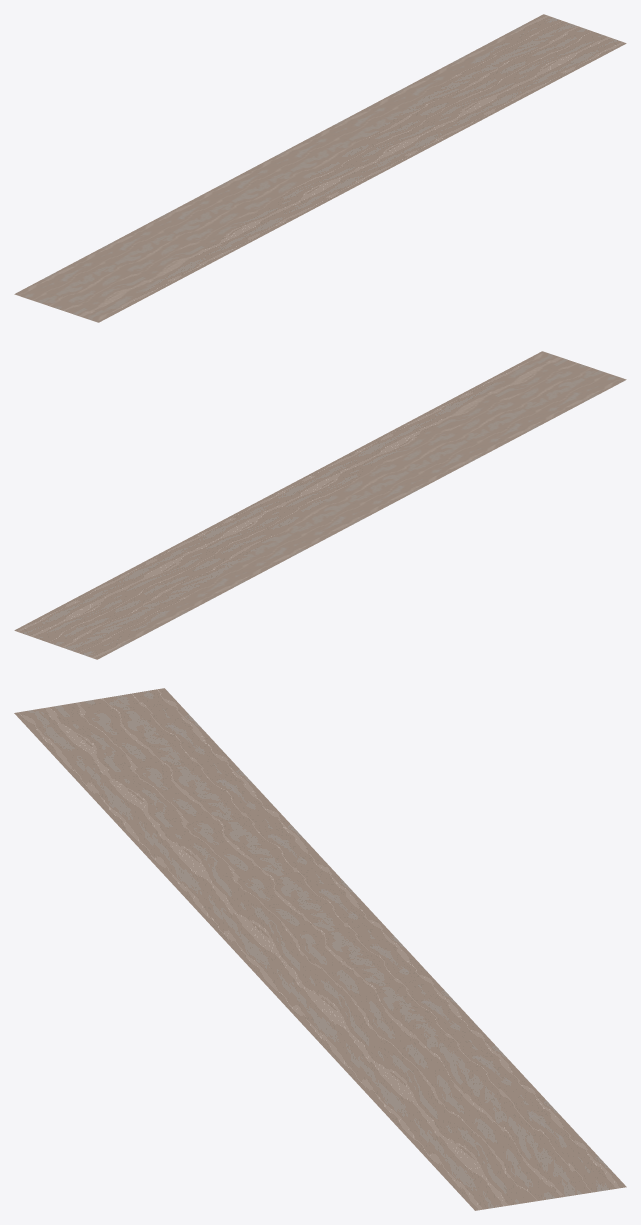
File: kd_stage_135ebf_0_63.glb
3 renders of one model, top to bottom at view 1: azimuth 30°, elevation 25°; view 2: azimuth 210°, elevation 25°; view 3: azimuth 270°, elevation 25°, orthographic. The views are drawn at different scales.
Visible parts, largest first — view 1: kd_stage_135ebf_0_63; view 2: kd_stage_135ebf_0_63; view 3: kd_stage_135ebf_0_63.
Part boxes in pixels (left/top/right/bottom): kd_stage_135ebf_0_63: left=14, top=14, right=626, bottom=322; kd_stage_135ebf_0_63: left=14, top=351, right=626, bottom=659; kd_stage_135ebf_0_63: left=14, top=688, right=626, bottom=1210.
Size of the model in its own units: 2.82 by 5.25e-05 by 1.4.
Materials: 1 (1 with a texture image).
